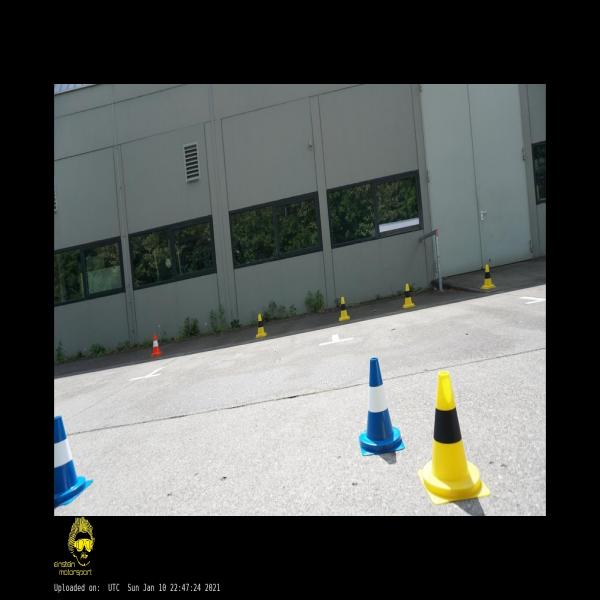blue_cone: (359, 357, 405, 456), (54, 415, 93, 505)
orange_cone: (150, 334, 162, 356)
yellow_cone: (418, 371, 490, 504), (480, 264, 496, 289), (402, 284, 415, 308), (255, 314, 267, 338), (339, 296, 350, 321)
